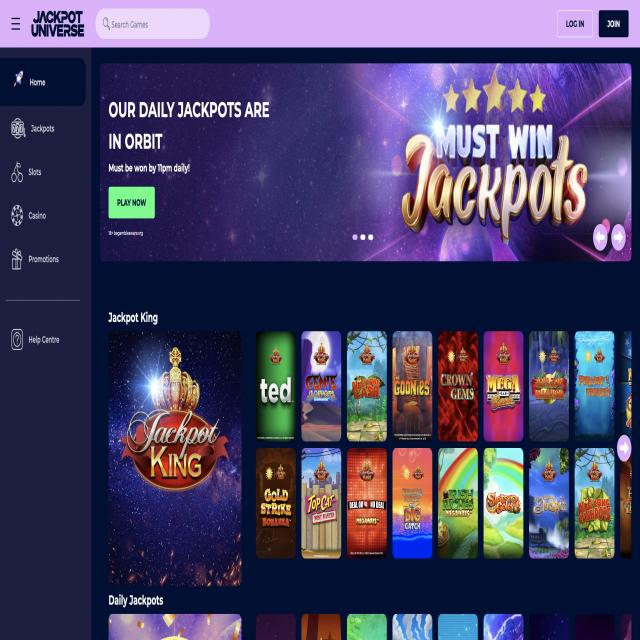Logo: (29, 7, 88, 41)
Navigation: (2, 49, 92, 640)
